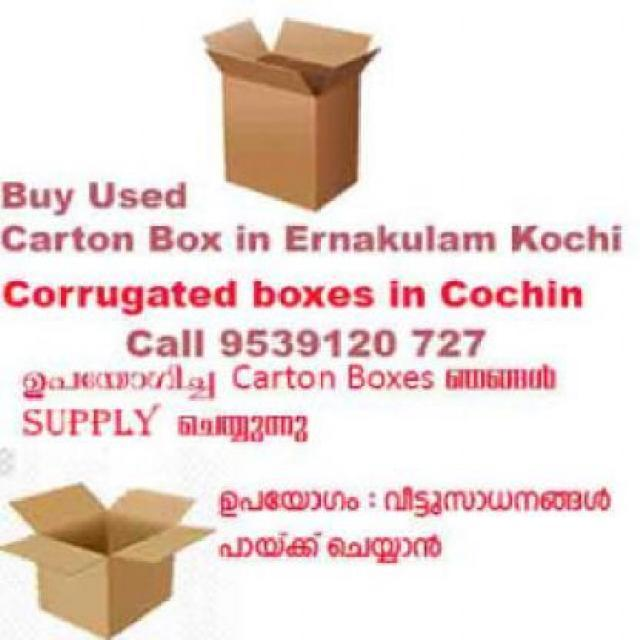box: (206, 14, 362, 211), (3, 491, 192, 640)
